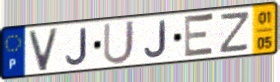E: (183, 11, 216, 60)
J: (143, 19, 169, 60), (64, 26, 89, 67)
U: (101, 19, 136, 67)
V: (27, 26, 60, 74)
Z: (217, 10, 252, 55)
